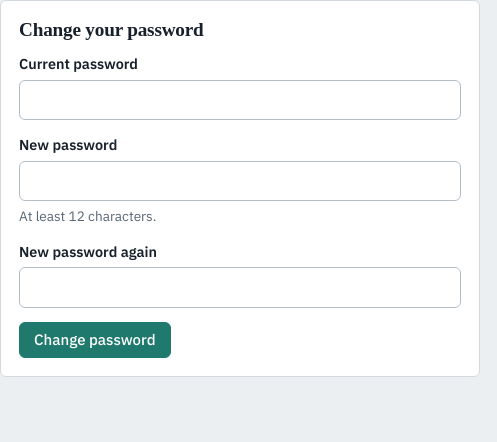
Scenario: change password › checks the new password before asking the server
Type "old-password-here" into the password field labelled "Current password" at (240, 100), box 19,80 -> 461,120
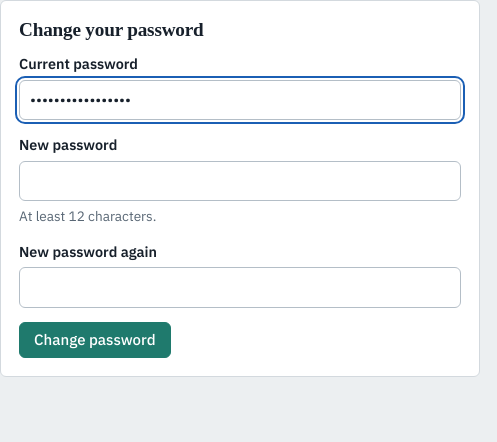
Type "short" into the password field labelled "New password" at (240, 181), box 19,161 -> 461,201
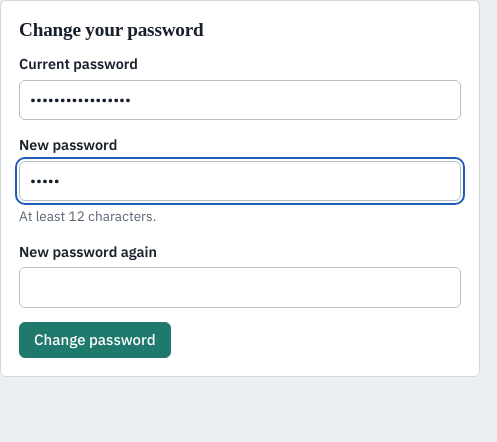
Type "different" into the password field labelled "New password again" at (240, 288), box 19,267 -> 461,308
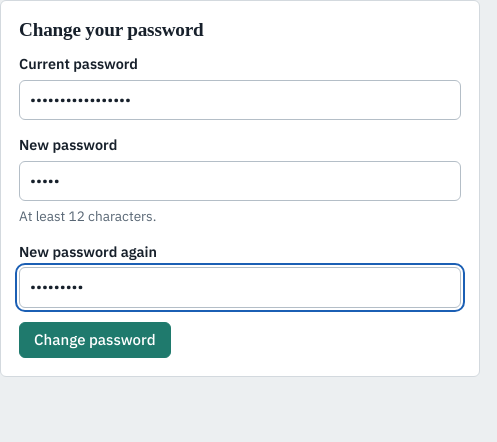
Click the button "Change password" at (95, 340), box 19,322 -> 170,358
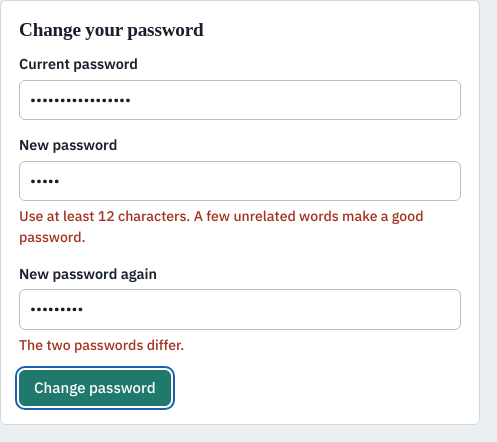
Now the text "at least 12 characters" is shown, box 19,207 -> 424,246
Now the text "The two passwords differ." is shown, box 19,336 -> 184,354
